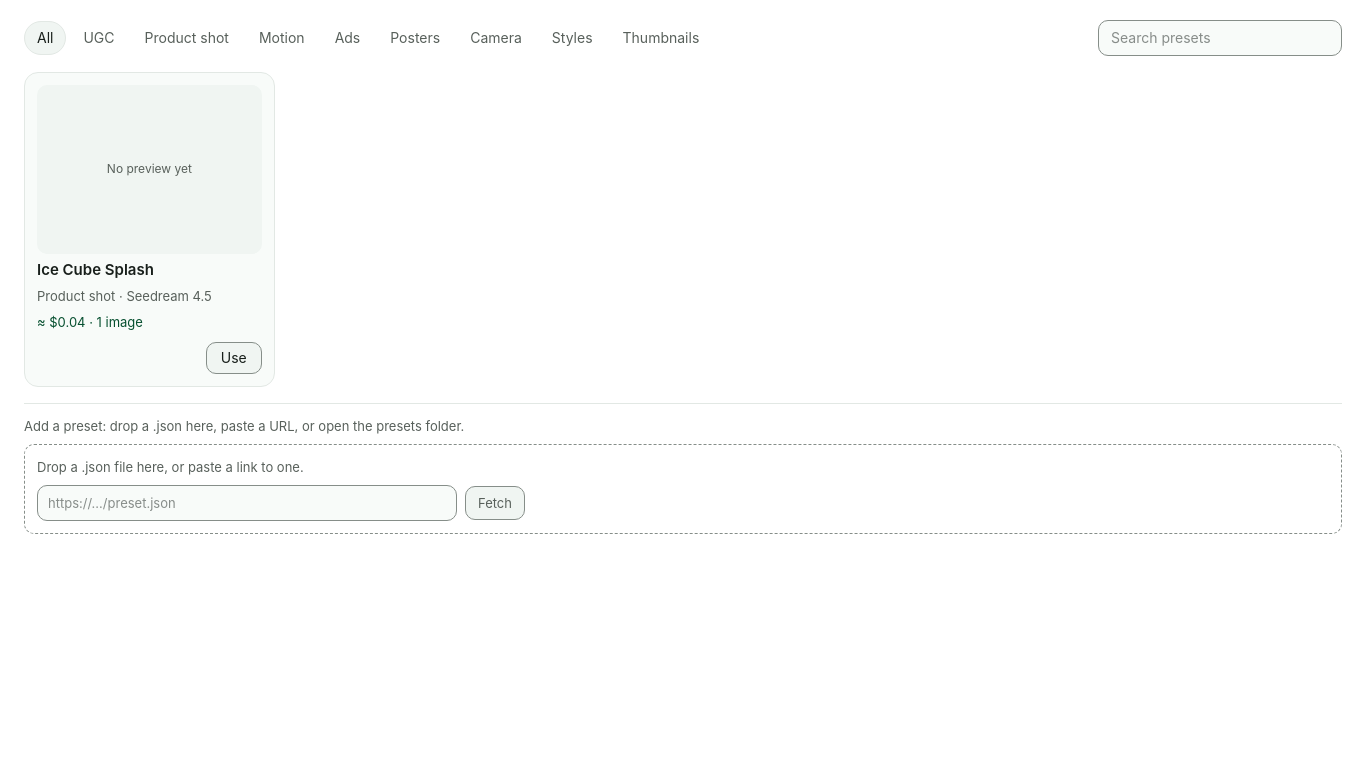
Test: the preset catalogue (F-PRE-01) › offers a tab for every category and marks the chosen one
Click the tab "Posters" at (415,38), box left=377, top=21, right=453, bottom=55
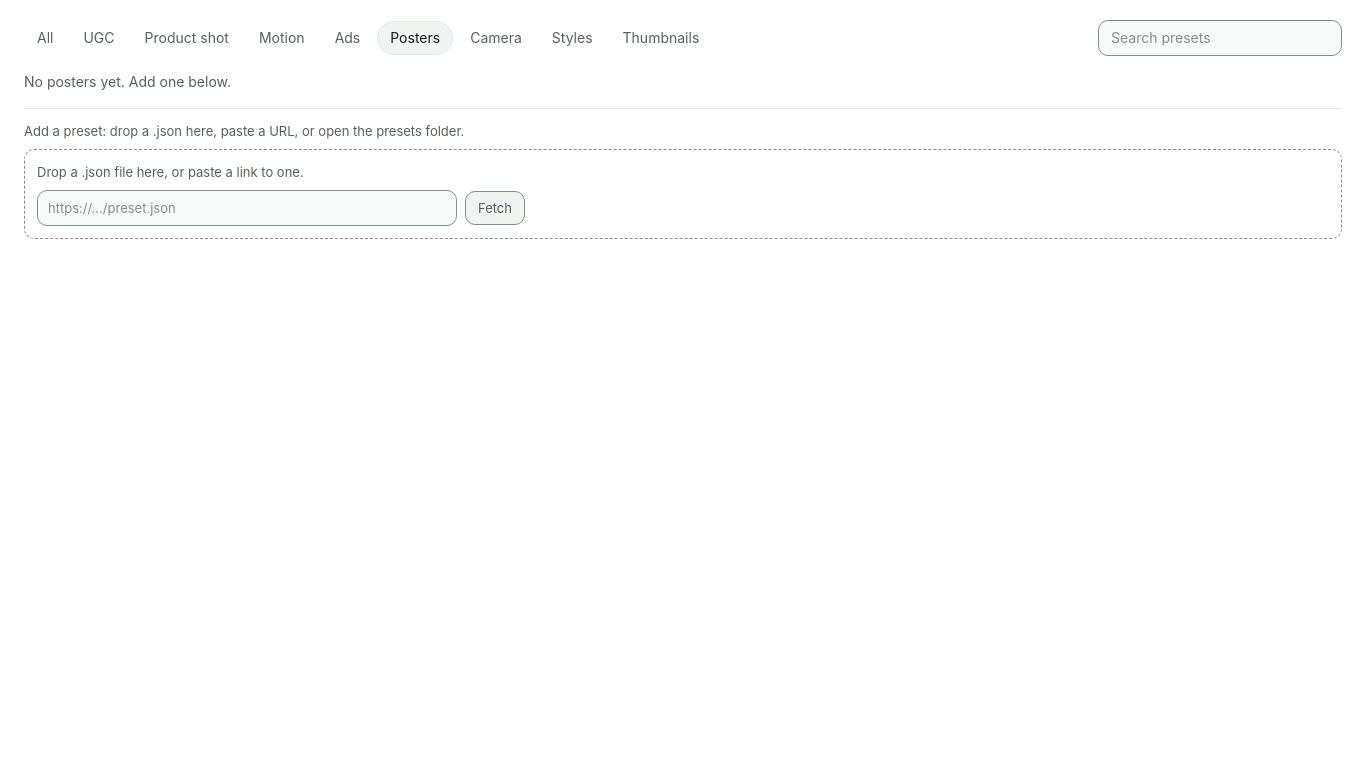
Check: the text "No posters yet. Add one below." is shown, box left=24, top=73, right=231, bottom=90
